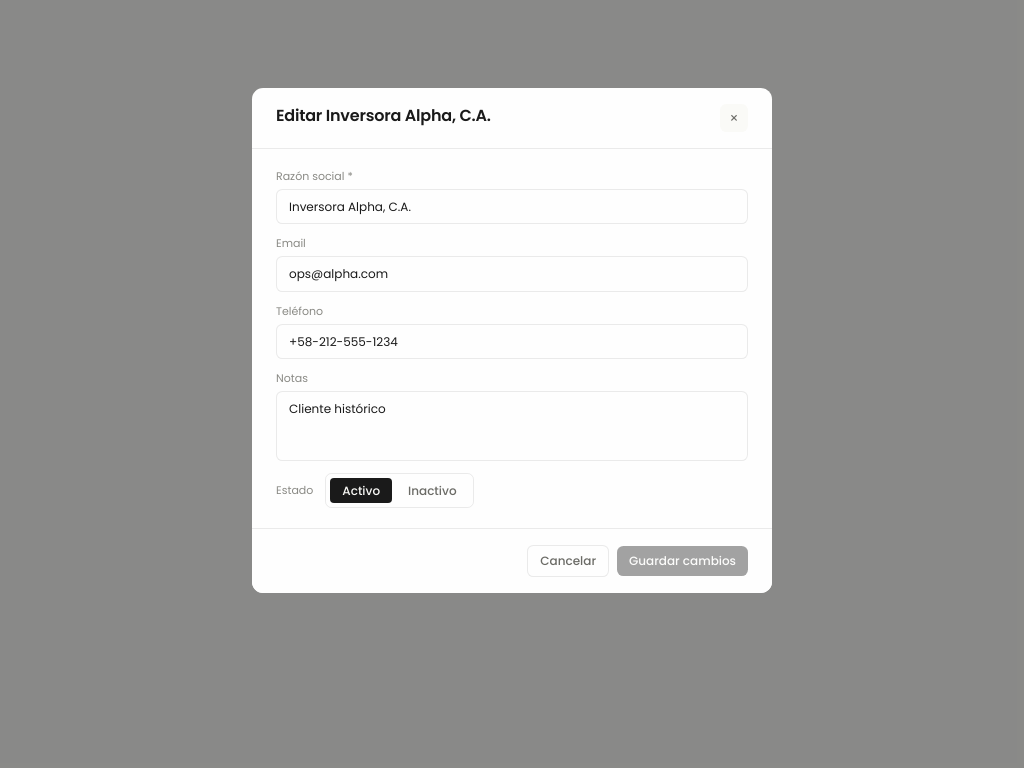
<InvestorEditModal /> › toggles status via the Activo/Inactivo buttons
The image size is (1024, 768).
Click the button "Inactivo": point(432, 491) [396, 478, 469, 504]
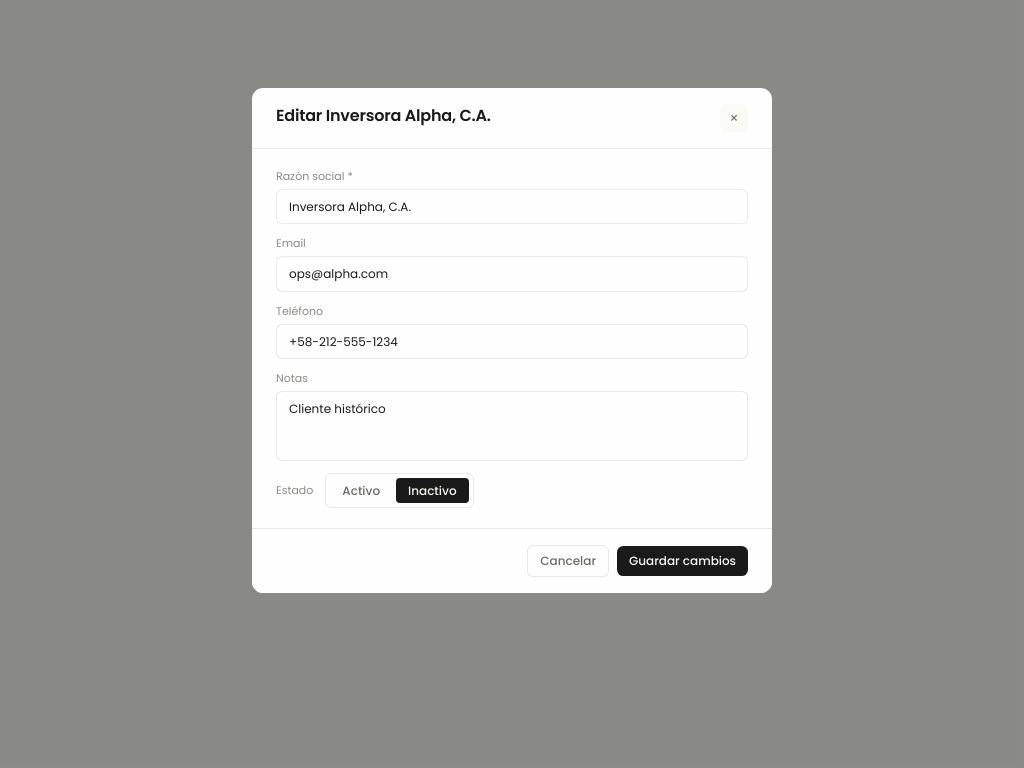
Check: the button "Guardar cambios" is enabled, box [617, 546, 748, 576]
